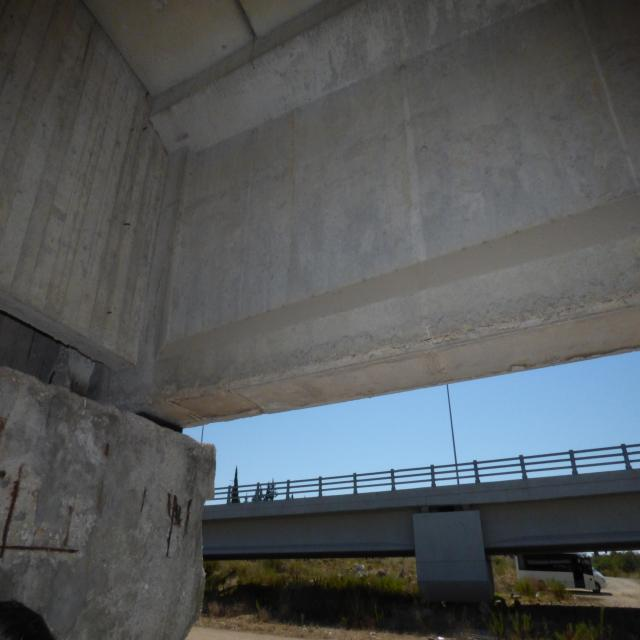Rebar: (2, 463, 98, 563), (139, 484, 194, 561), (80, 21, 94, 65), (103, 440, 110, 458)
